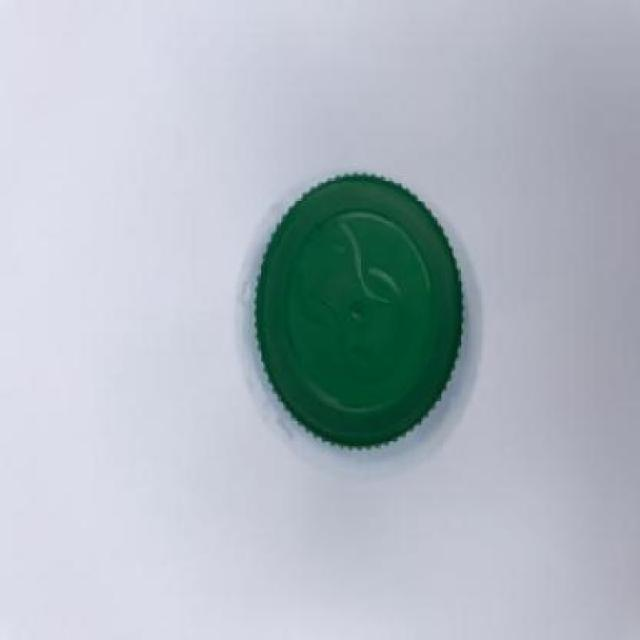nhua: (256, 174, 462, 448)
